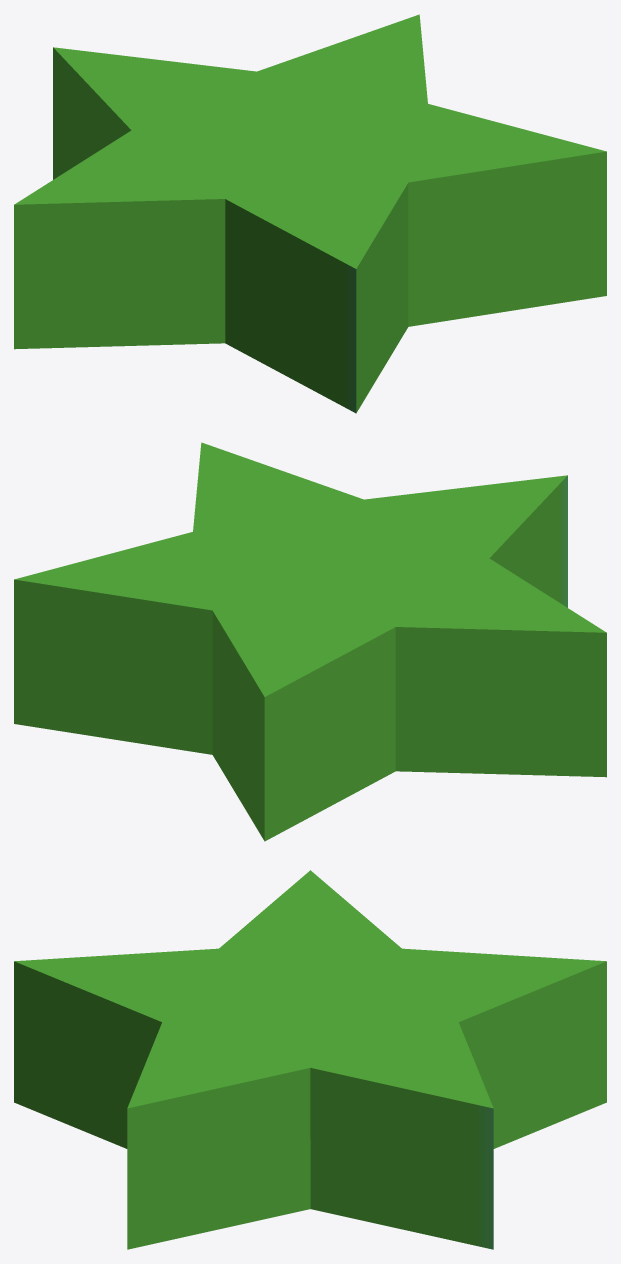
File: Prop_ShapeSortingBlock_FiveCornerStar.fbx
The picture shows the model from 3 angles, top to bottom: view 1: azimuth 30°, elevation 25°; view 2: azimuth 150°, elevation 25°; view 3: azimuth 270°, elevation 25°; orthographic projection. The views are drawn at different scales.
Parts seen in each view (by area): view 1: Prop_ShapeSortingBlock_FiveCornerStar; view 2: Prop_ShapeSortingBlock_FiveCornerStar; view 3: Prop_ShapeSortingBlock_FiveCornerStar.
Part boxes in pixels (x1=…): Prop_ShapeSortingBlock_FiveCornerStar: x1=14, y1=14, x2=606, y2=413; Prop_ShapeSortingBlock_FiveCornerStar: x1=14, y1=442, x2=606, y2=841; Prop_ShapeSortingBlock_FiveCornerStar: x1=14, y1=870, x2=606, y2=1249.
Bounding box in the file's own units: 15.84 × 4.38 × 16.66.
